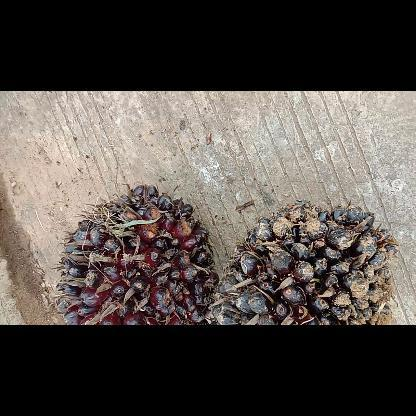TBS mentah: (51, 182, 223, 324), (210, 196, 398, 324)
